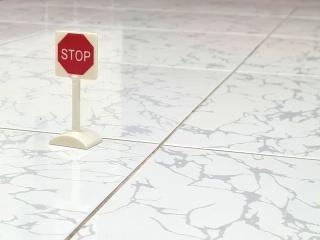stop: (47, 28, 103, 83)
